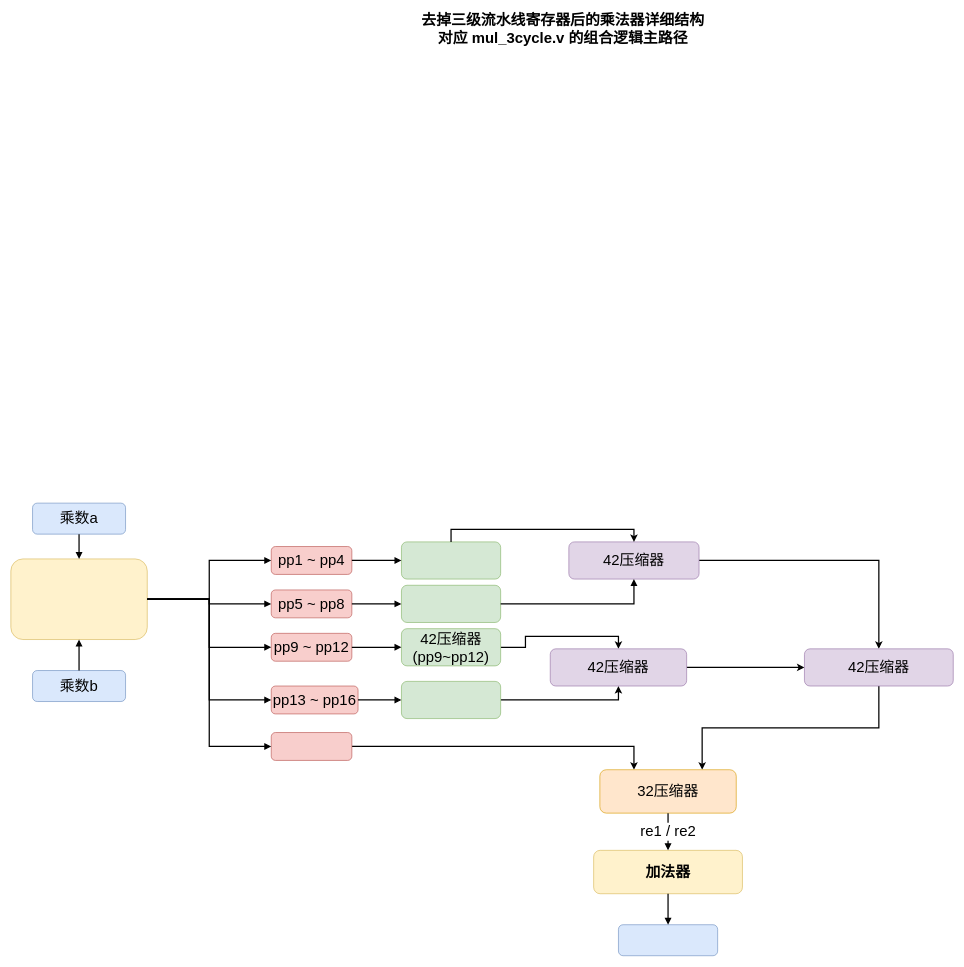
Some shapes in this 964 by 967 pixel diagram are drawn without their labels. Each missing label, with the box of its shape:
42压缩器 (pp13~pp16): (401, 681, 501, 719)
42压缩器 (pp1~pp4): (401, 541, 501, 579)
42压缩器 (pp5~pp8): (401, 585, 501, 622)
Booth 模块 Radix-4 编码 生成 pp1 ~ pp17: (10, 558, 147, 640)
pp17: (271, 732, 352, 760)
乘积: (618, 924, 718, 956)
